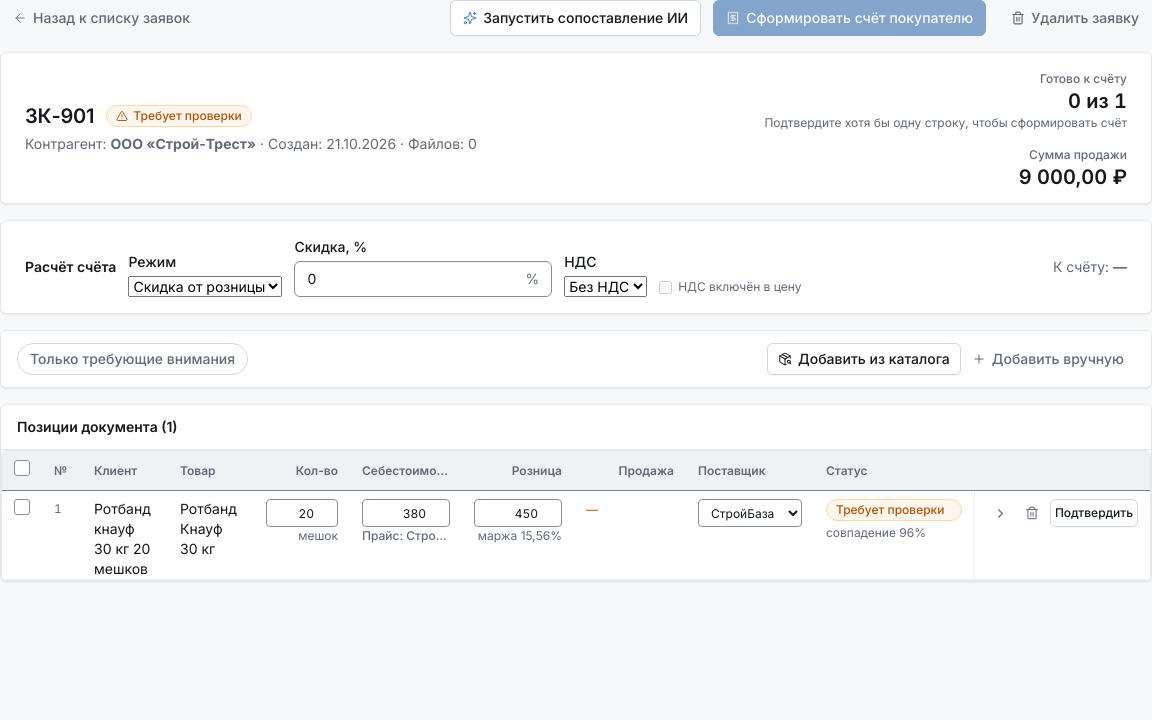
Test case: Таблица позиций документа › добавляет товар из каталога в текущий документ
Click the button "Добавить из каталога" at (864, 359), box [767, 343, 961, 375]
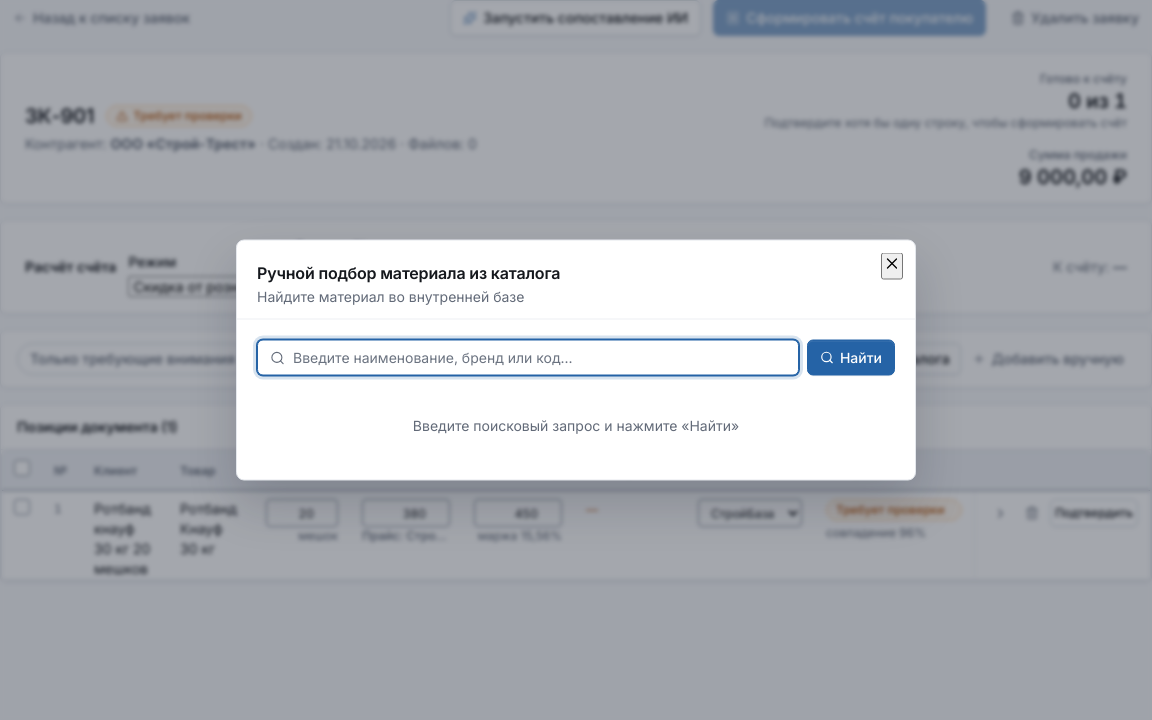
Check: the dialog is shown, box [236, 240, 916, 480]
